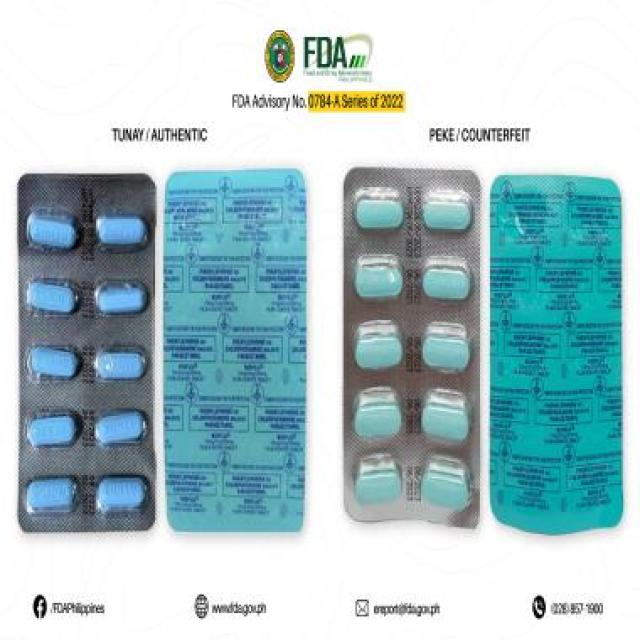Bioflu_Strip: (12, 164, 167, 541), (333, 160, 487, 537)
